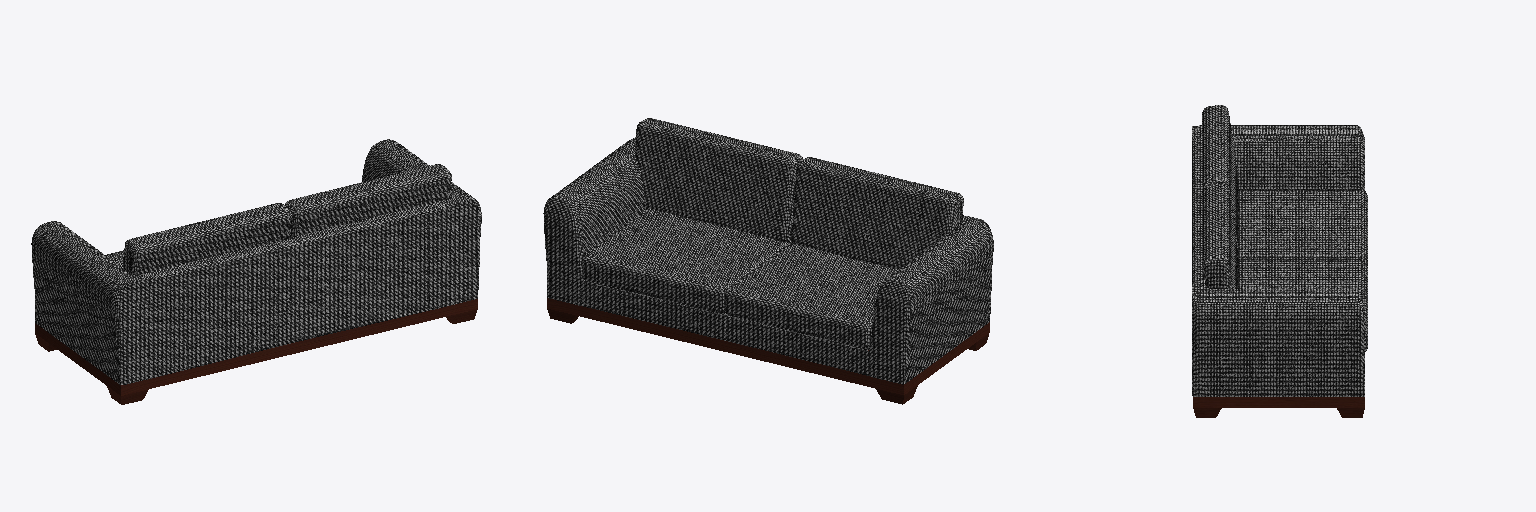
The picture shows the model from 3 angles: view 1: azimuth 30°, elevation 25°; view 2: azimuth 150°, elevation 25°; view 3: azimuth 270°, elevation 25°; orthographic projection.
Parts seen in each view (by area): view 1: main, base; view 2: main, base; view 3: main, base.
Boxes of the visible parts, box(x1,y1,x2,y2) form: main: box(31, 139, 481, 384); base: box(35, 299, 477, 404); main: box(543, 118, 993, 384); base: box(547, 298, 989, 404); main: box(1192, 105, 1367, 396); base: box(1193, 397, 1364, 417).
Bounding box in the file's own units: 230 × 90 × 95.01.
2 materials, 2 textured.